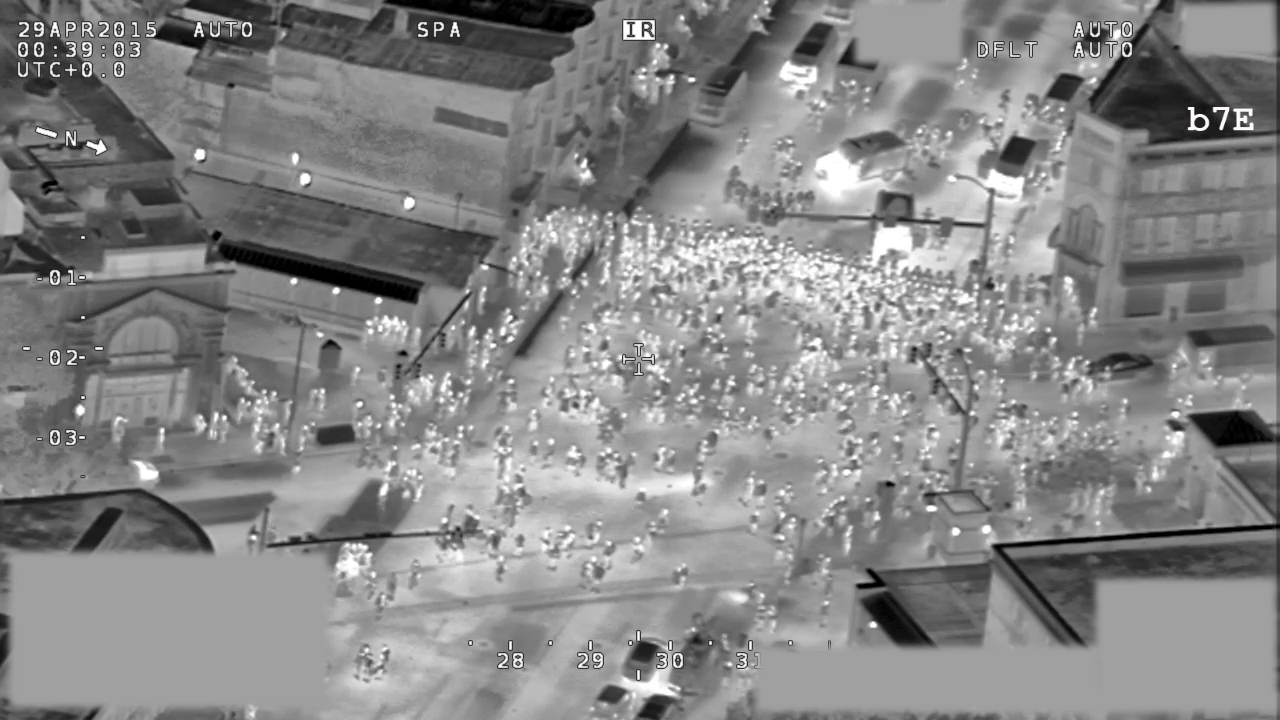vehicle: (1164, 323, 1280, 392), (811, 129, 911, 192), (772, 22, 840, 101), (673, 614, 733, 699), (688, 63, 756, 130), (979, 133, 1041, 203), (868, 185, 919, 268), (1075, 345, 1160, 390), (613, 629, 672, 691), (1068, 17, 1129, 68), (1039, 72, 1089, 124)
